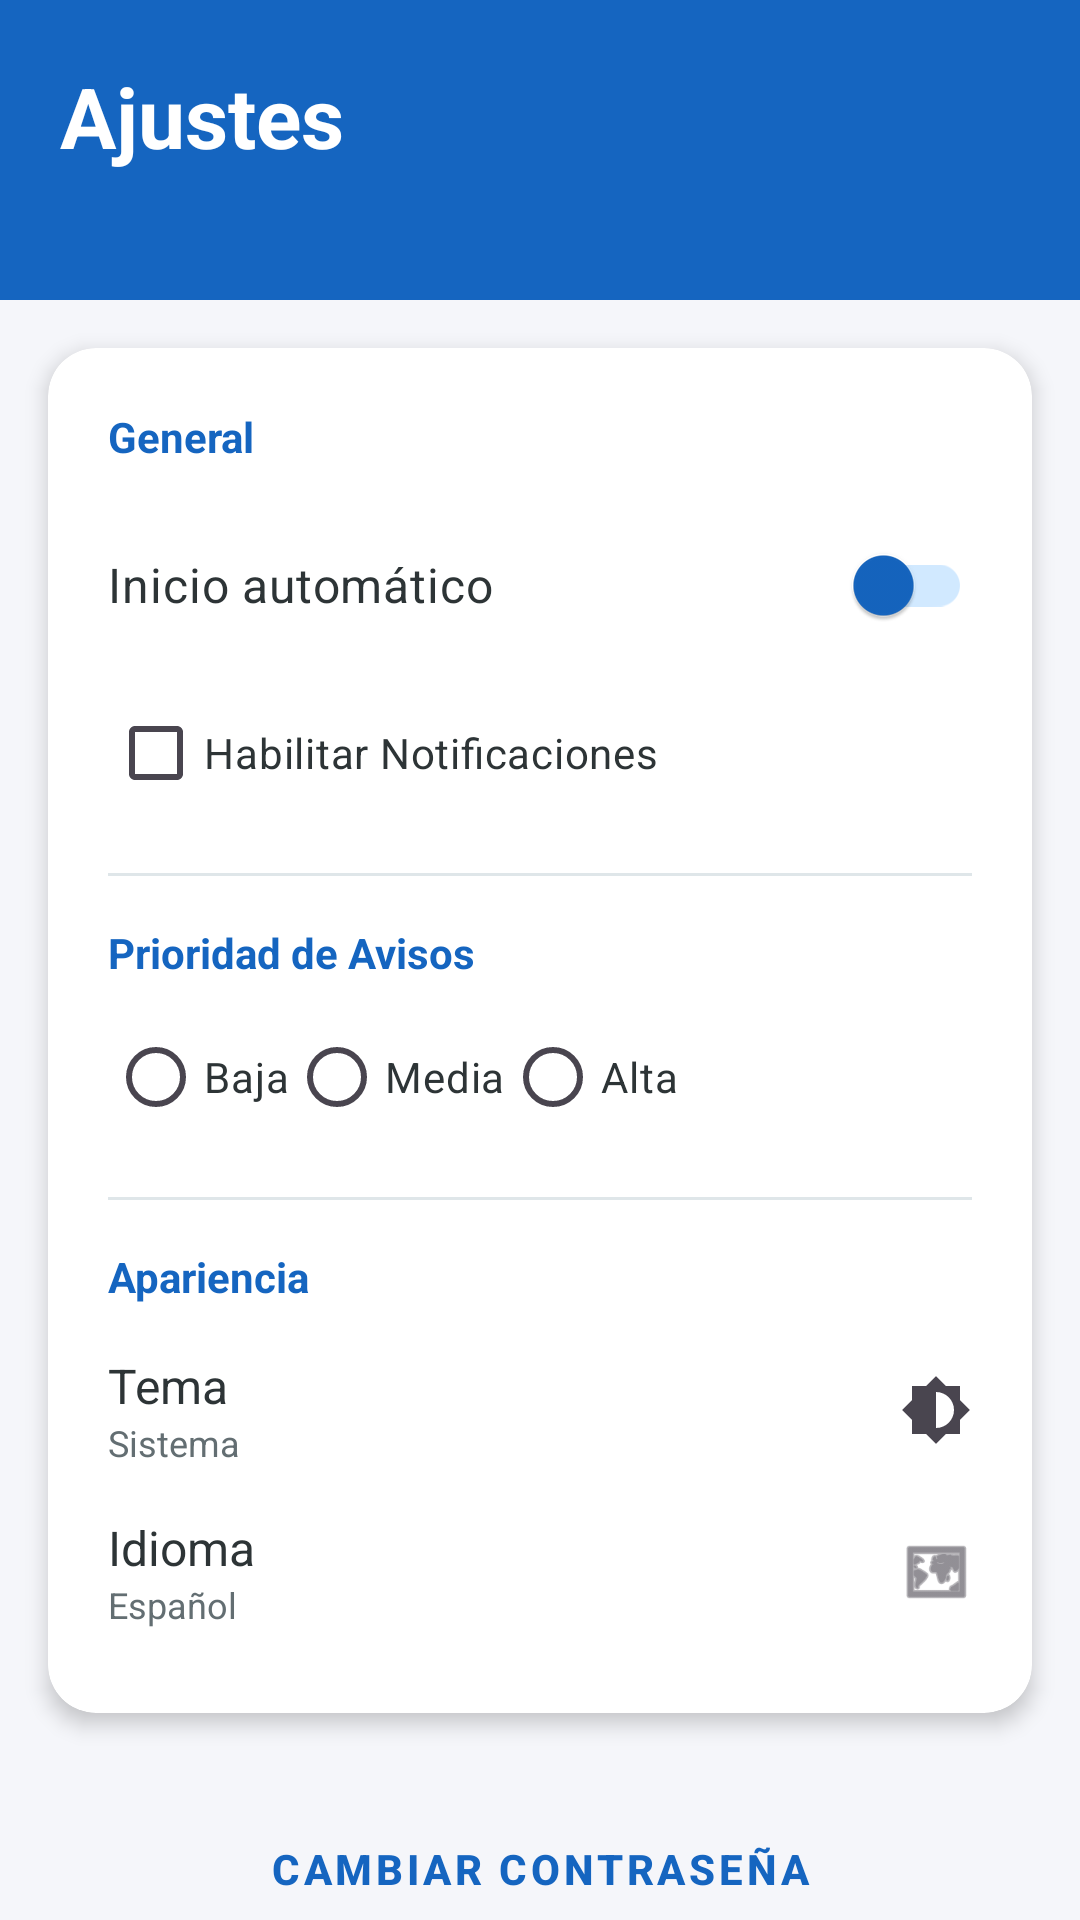

Named icons in this screenshot (1080*1920) and their centers, [x,y]:
brightness medium: [936,1410]
mapmode: [936,1572]
